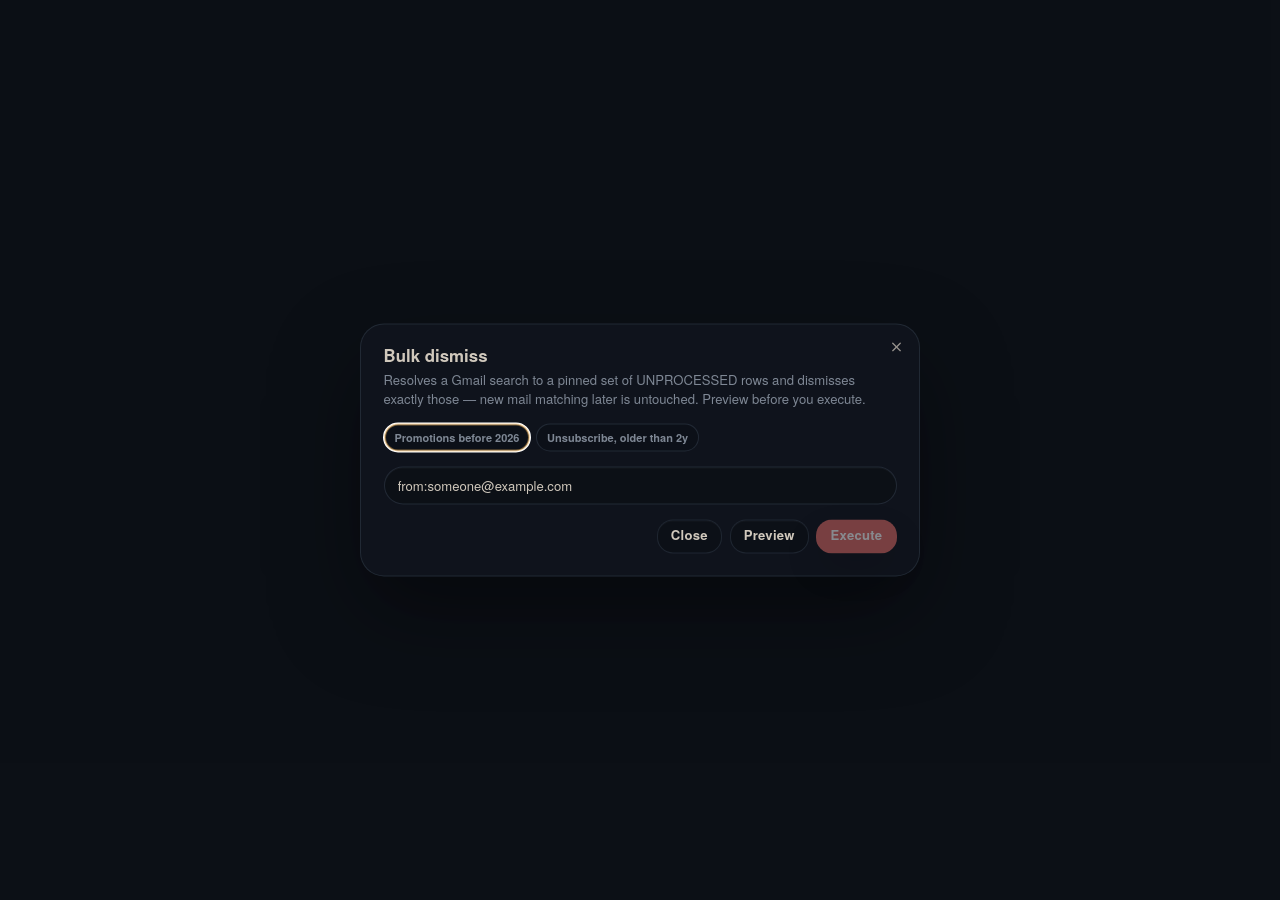
Scenario: BulkDismissDialog › enables Execute after a successful preview, then sends the digest through and reports success
The image size is (1280, 900).
Click the button "Preview".
click(769, 536)  # box [730, 519, 809, 553]
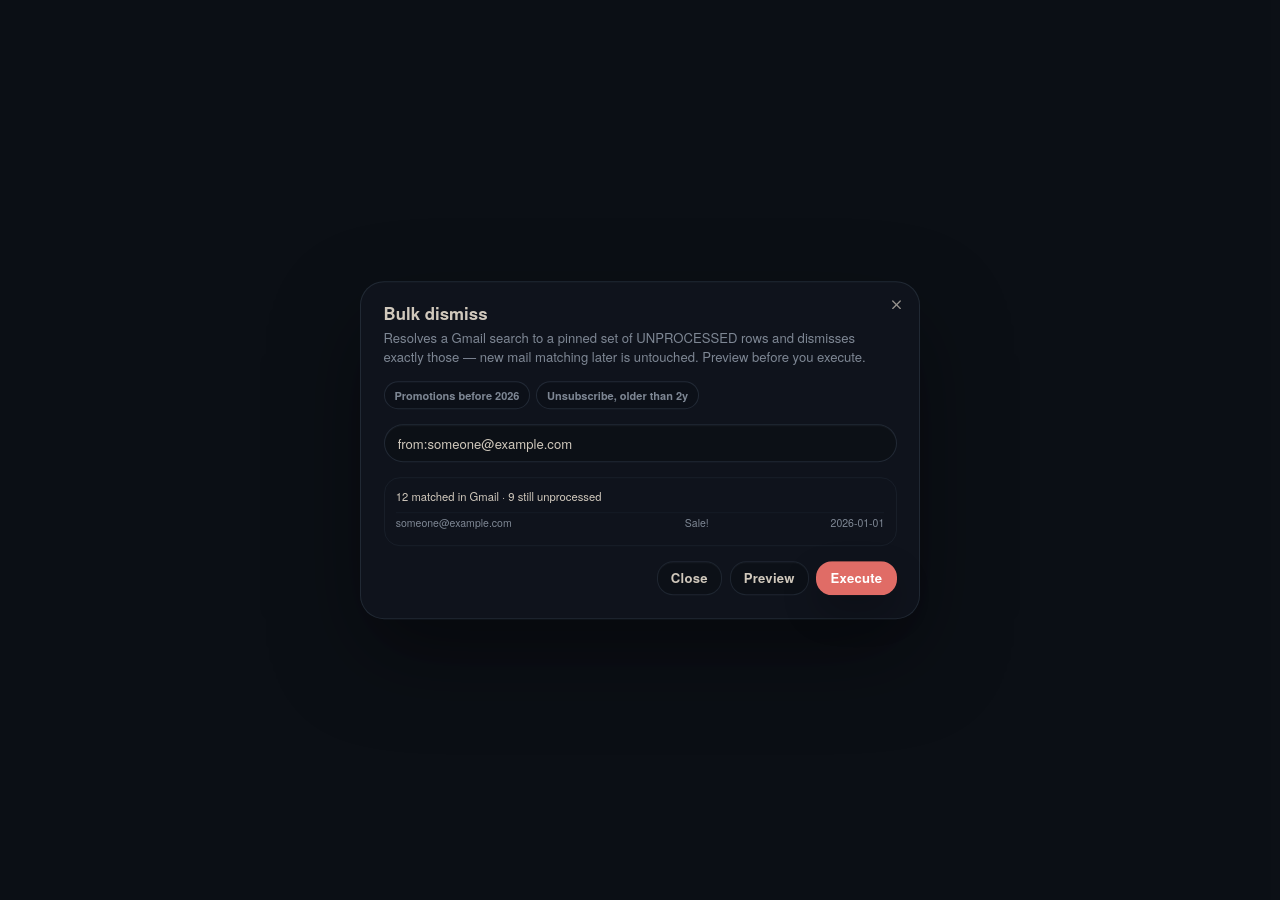
Expected: the element with test id "bulk-dismiss-preview" is shown, [384, 477, 896, 547]
Expected: the text "12 matched in Gmail · 9 still unprocessed" is shown, [396, 488, 602, 504]
Expected: the button "Execute" is enabled
Click the button "Execute".
click(856, 578)  # box [816, 562, 896, 595]
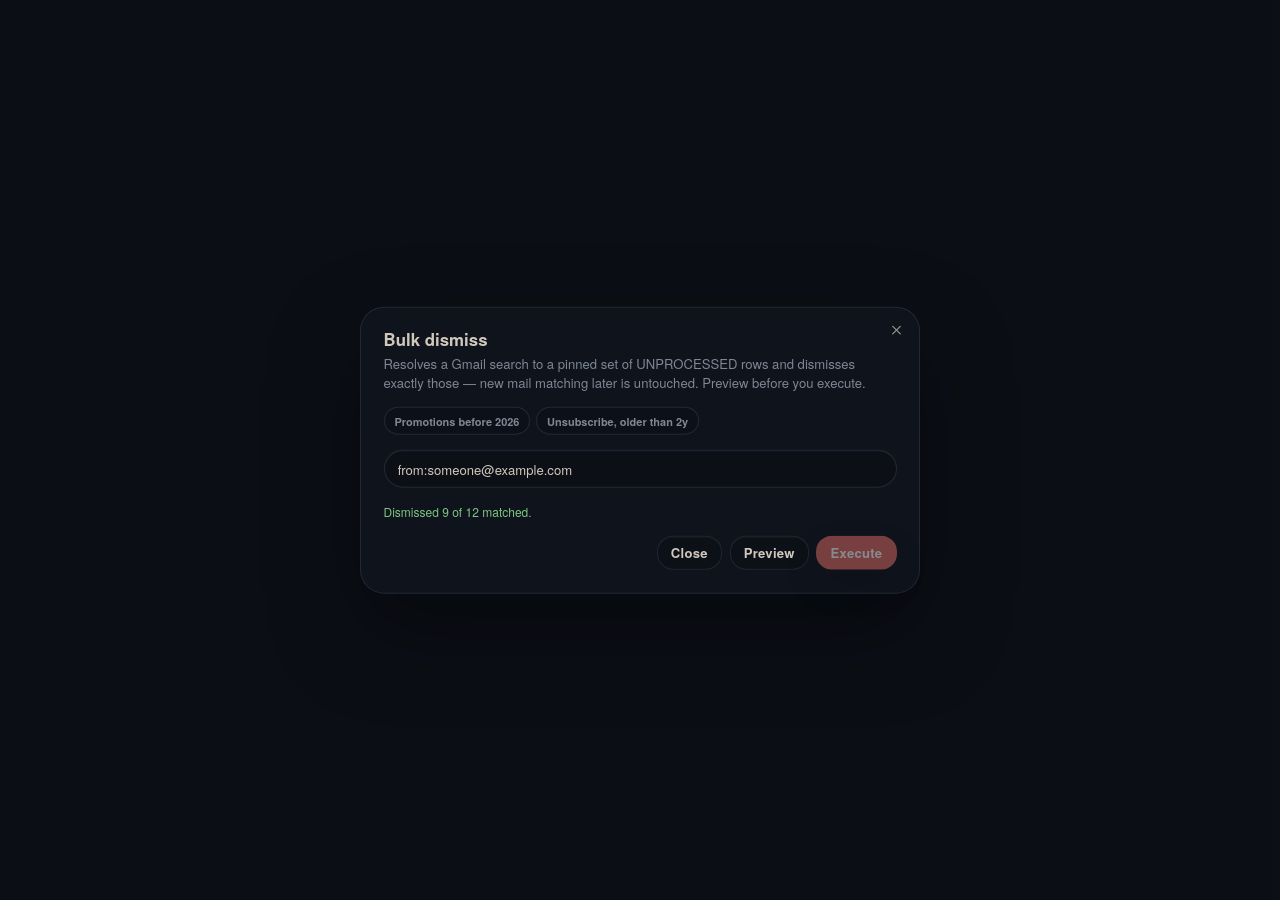
Expected: the text with test id "bulk-dismiss-result" reads "Dismissed 9 of 12 matched.", [384, 502, 532, 520]
